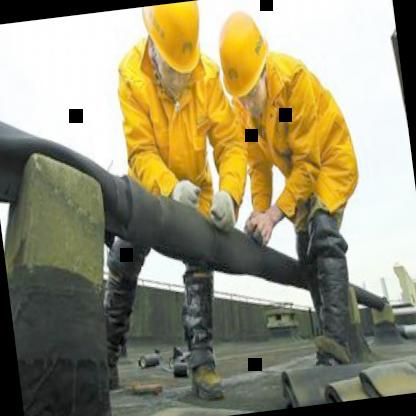helmet: (204, 0, 282, 119), (133, 0, 212, 91)
